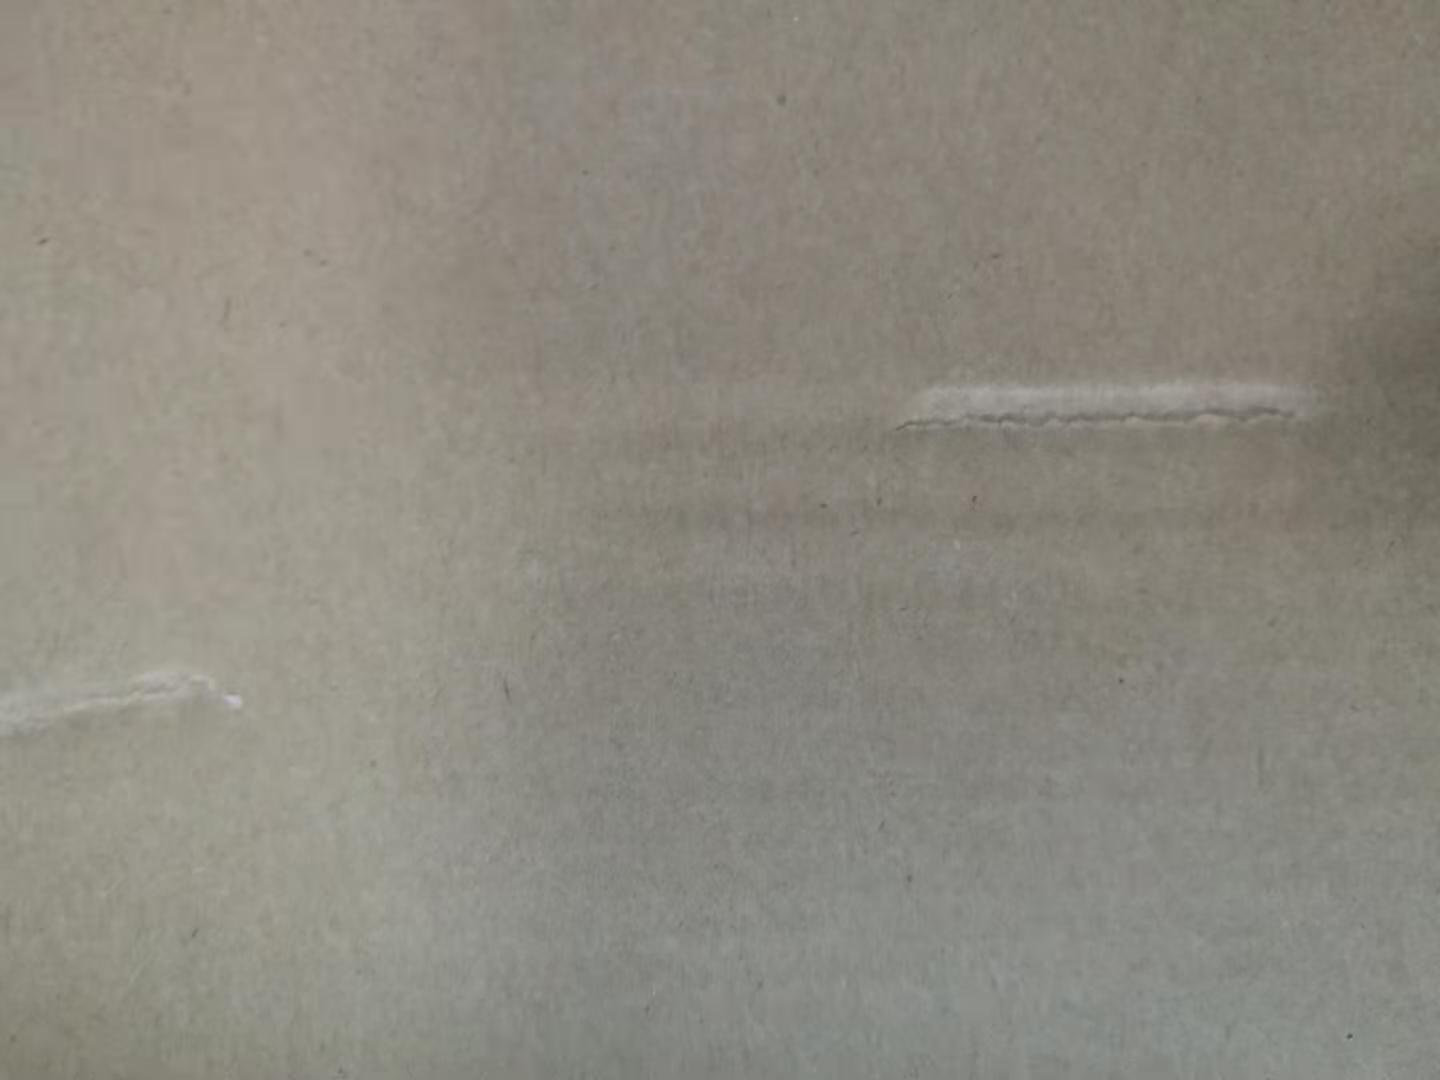defect: (864, 334, 1378, 475), (3, 639, 277, 765)
